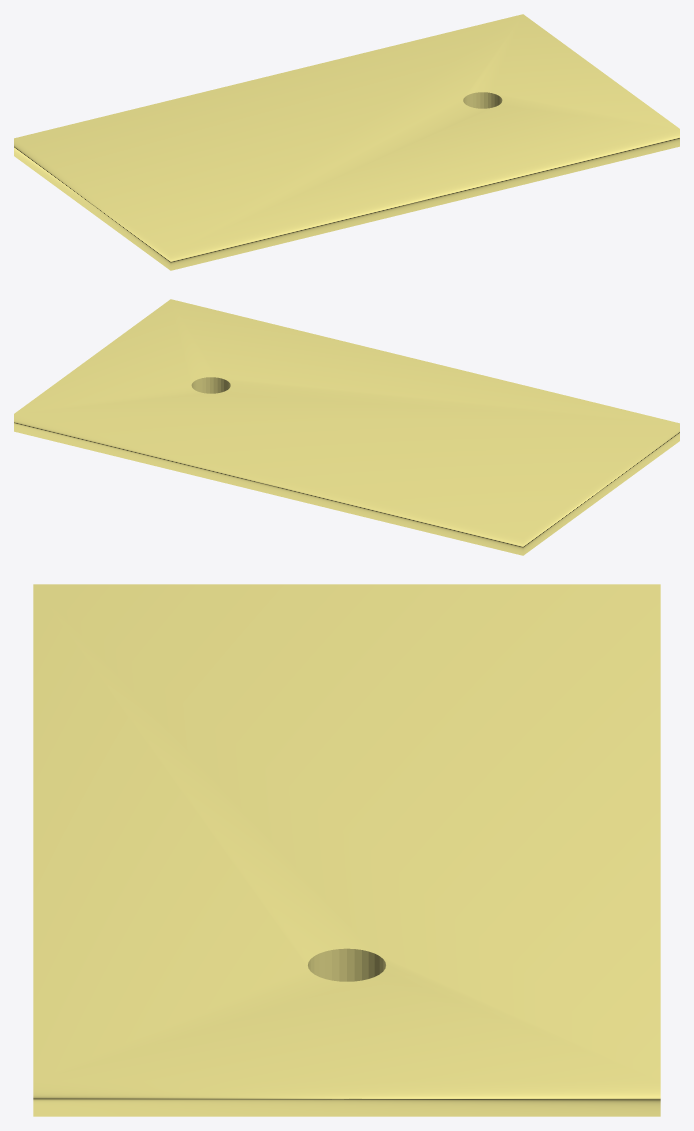
Rendered from mehmet.fbx.
3 views of the same model, one above another, from view 1: azimuth 30°, elevation 25°; view 2: azimuth 150°, elevation 25°; view 3: azimuth 270°, elevation 25° (orthographic). The views are drawn at different scales.
Parts seen in each view (by area): view 1: Board; view 2: Board; view 3: Board.
Boxes of the visible parts, x1,y1,x2,y2 form: Board: [14, 14, 679, 270]; Board: [14, 299, 679, 555]; Board: [33, 584, 660, 1116].
Bounding box in the file's own units: 3000 × 100 × 1600.
